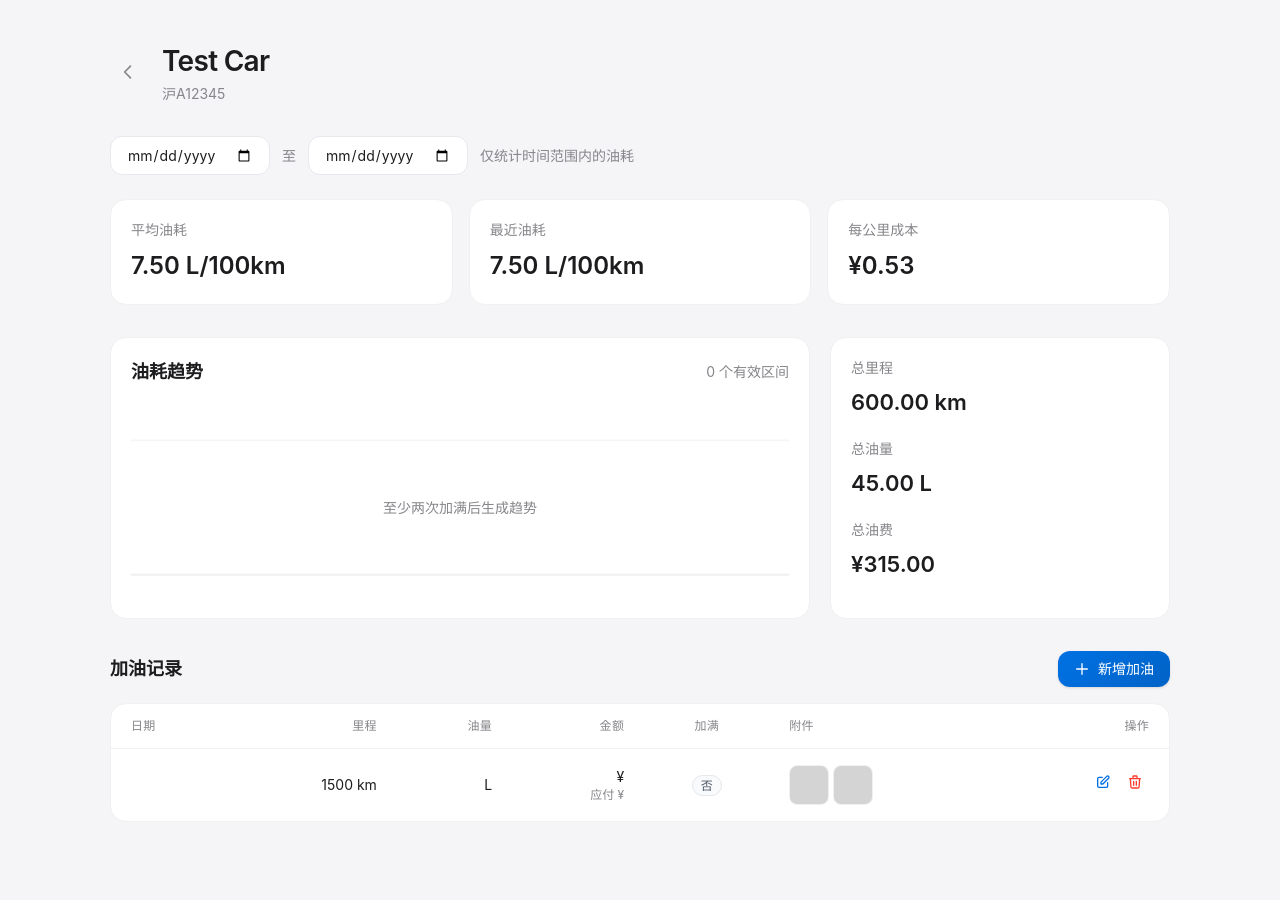
it: FuelDetail.vue › shows existing attachments with type badges when editing a record
Click the button named "编辑".
click(1103, 782)  # box [1089,768,1117,796]
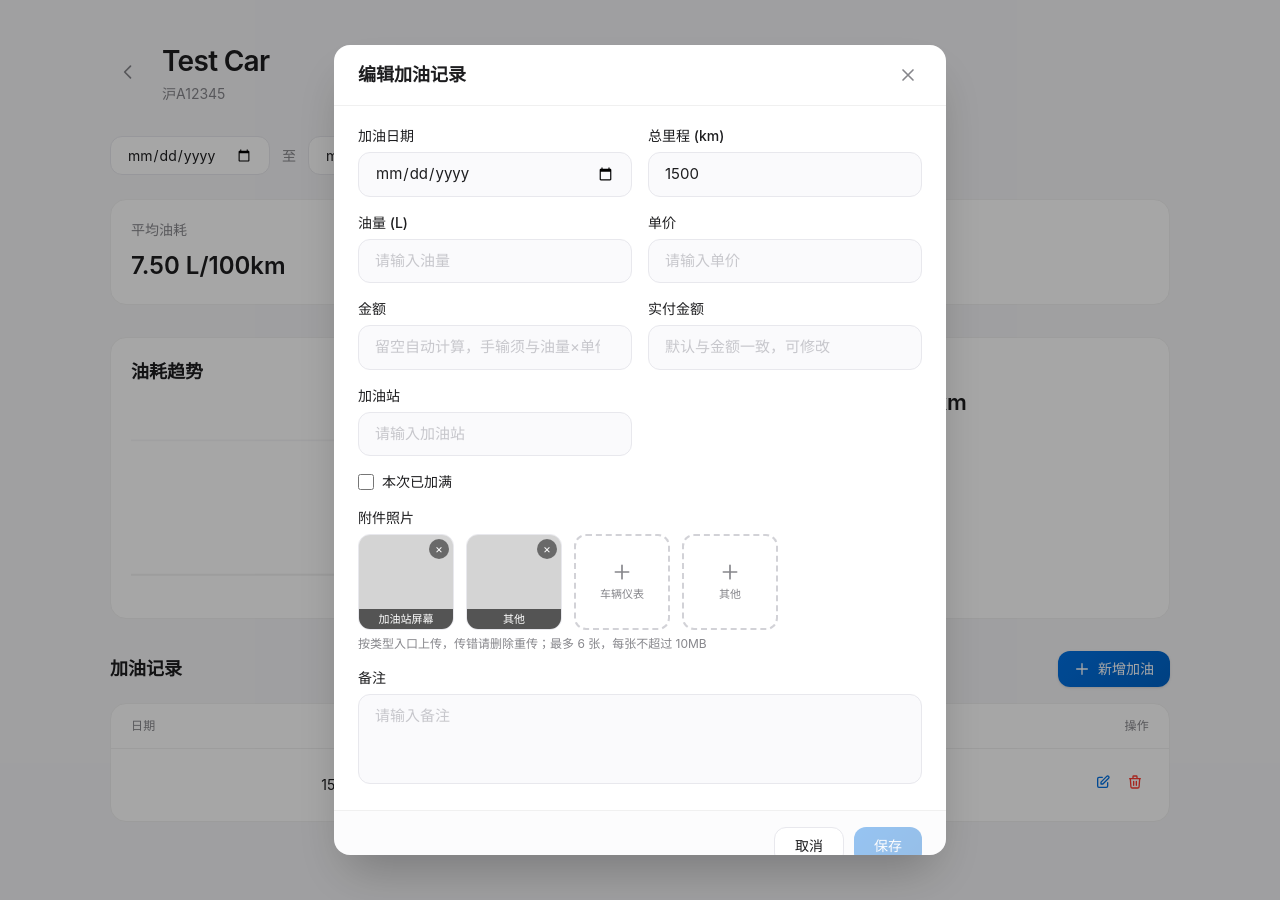
Expected: the number of elements with class "attach-type-badge" is 2, [359,608,453,629]; [467,608,561,629]
